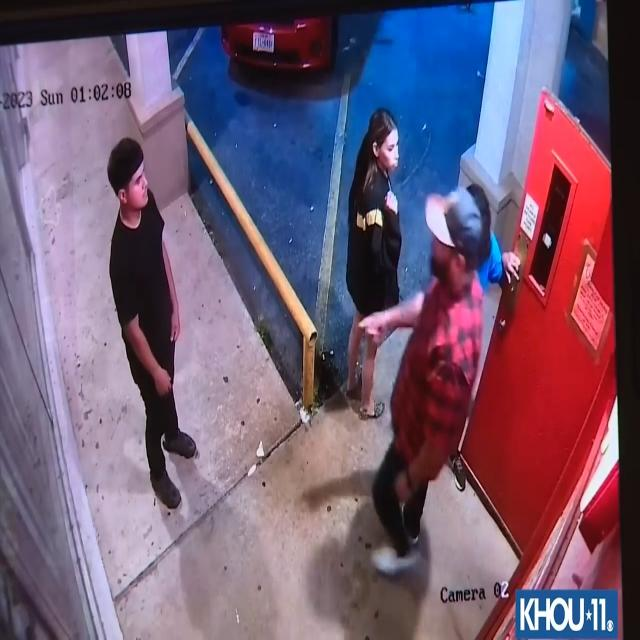Person: (376, 192, 486, 562), (100, 124, 189, 512), (343, 100, 412, 422), (459, 170, 524, 352)
